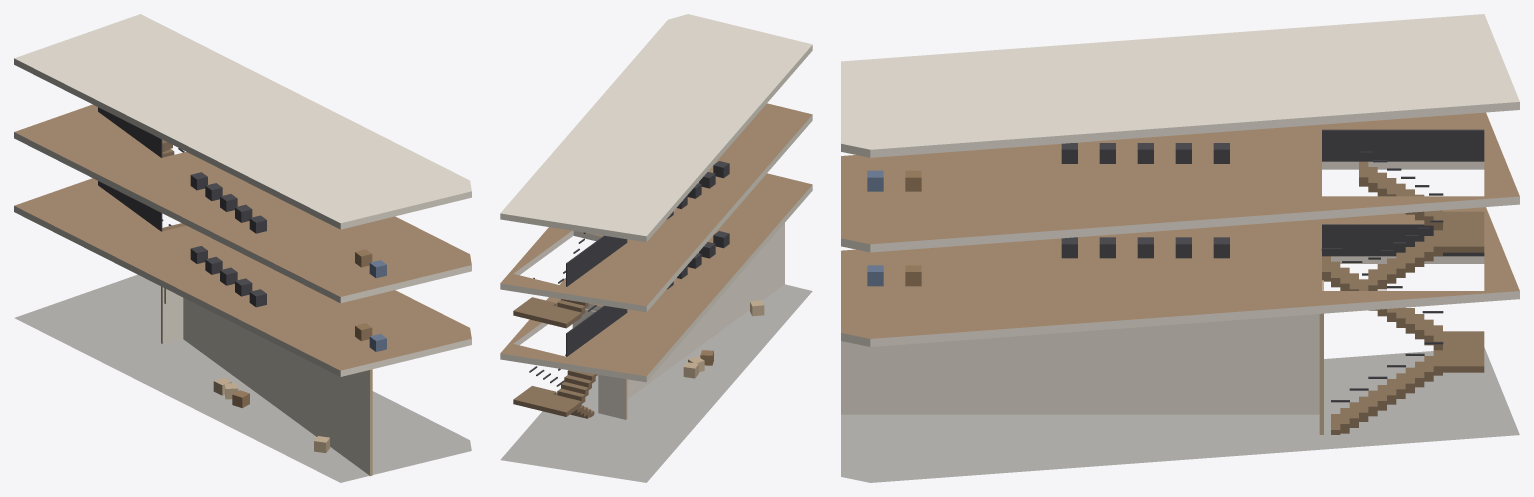
File: interior.glb
The picture shows the model from 3 angles, left to right: view 1: azimuth 30°, elevation 25°; view 2: azimuth 150°, elevation 25°; view 3: azimuth 270°, elevation 25°; orthographic projection. The views are drawn at different scales.
Visible parts, largest first — view 1: slabs, partitions, stair, coarse-s2, coarse-s1, coarse-s0; view 2: slabs, stair, partitions, coarse-s0, coarse-s1, coarse-s2; view 3: slabs, partitions, stair, coarse-s1, coarse-s2.
Part boxes in pixels (<box>): slabs: <box>14,14,471,482</box>; partitions: <box>161,286,372,476</box>; stair: <box>98,107,185,231</box>; coarse-s2: <box>190,172,386,278</box>; coarse-s1: <box>190,246,386,351</box>; coarse-s0: <box>213,377,329,452</box>; slabs: <box>500,14,812,482</box>; stair: <box>513,232,627,418</box>; partitions: <box>572,223,784,419</box>; coarse-s0: <box>683,300,764,378</box>; coarse-s1: <box>667,231,729,289</box>; coarse-s2: <box>667,161,729,219</box>; slabs: <box>841,14,1519,482</box>; partitions: <box>841,280,1323,434</box>; stair: <box>1321,129,1484,434</box>; coarse-s1: <box>867,237,1229,286</box>; coarse-s2: <box>867,143,1229,191</box>.
Size of the model in its own units: 9.31 by 10.67 by 19.67.
